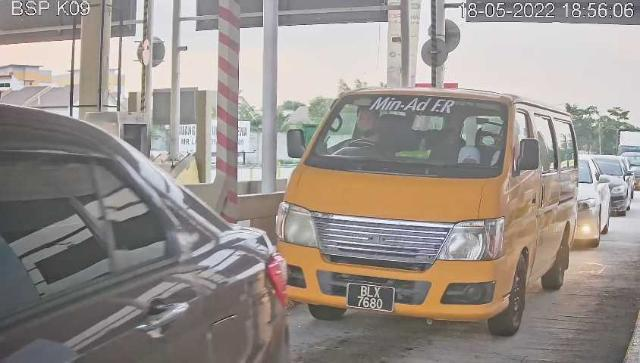License_Plate: (346, 281, 396, 315)
van: (278, 90, 580, 339)
